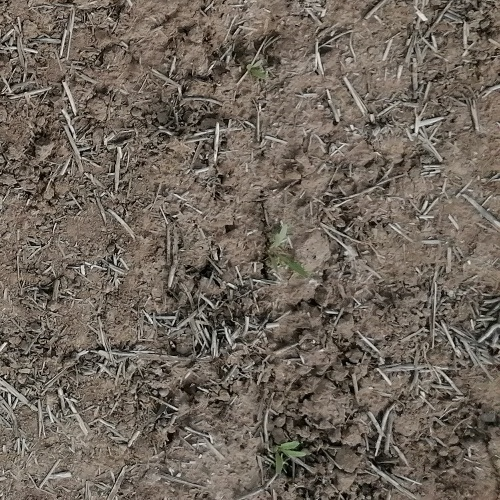beet: (267, 236, 309, 276), (276, 443, 303, 476)
